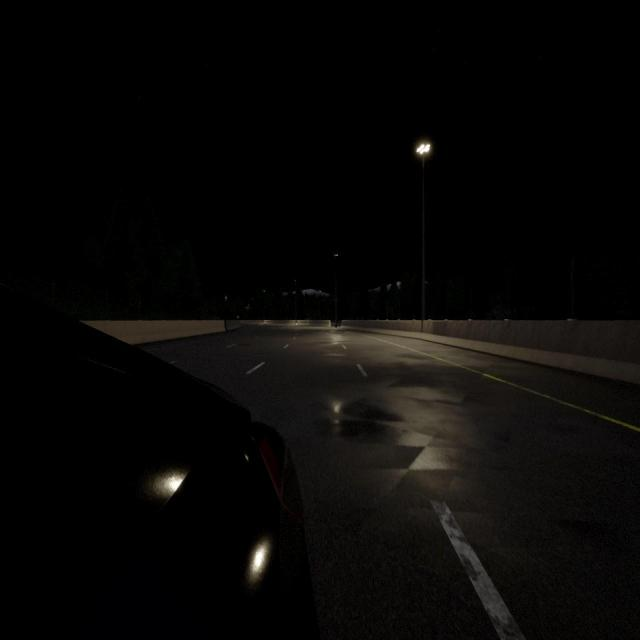Traffic_Signs: (236, 315, 239, 320)
Vehicle: (0, 288, 318, 640)
